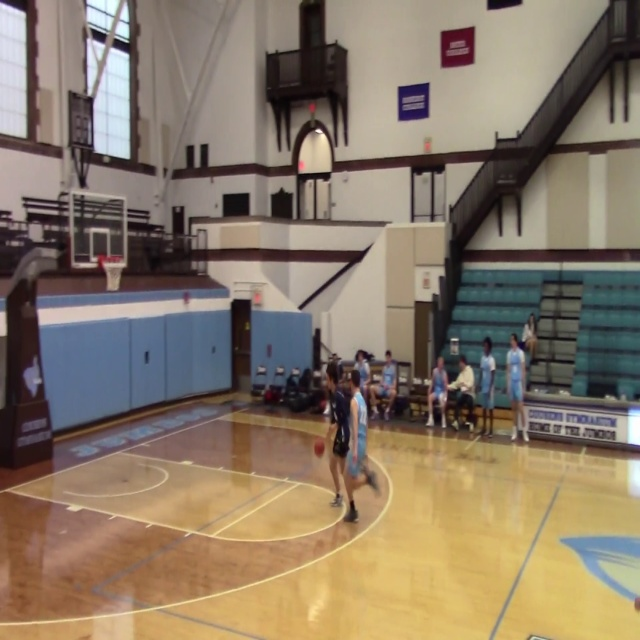Basketball: (313, 438, 325, 456)
